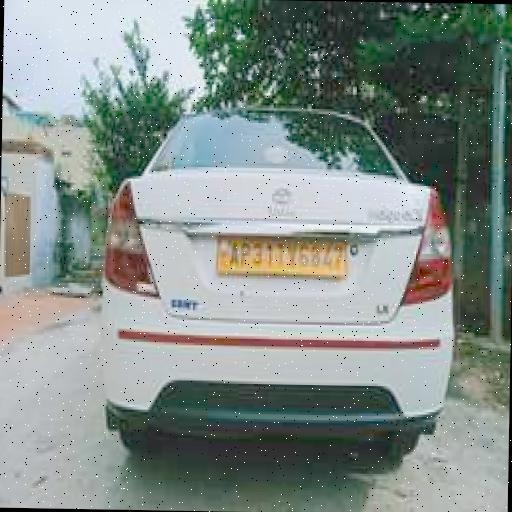license_plate`: (214, 233, 345, 275)
